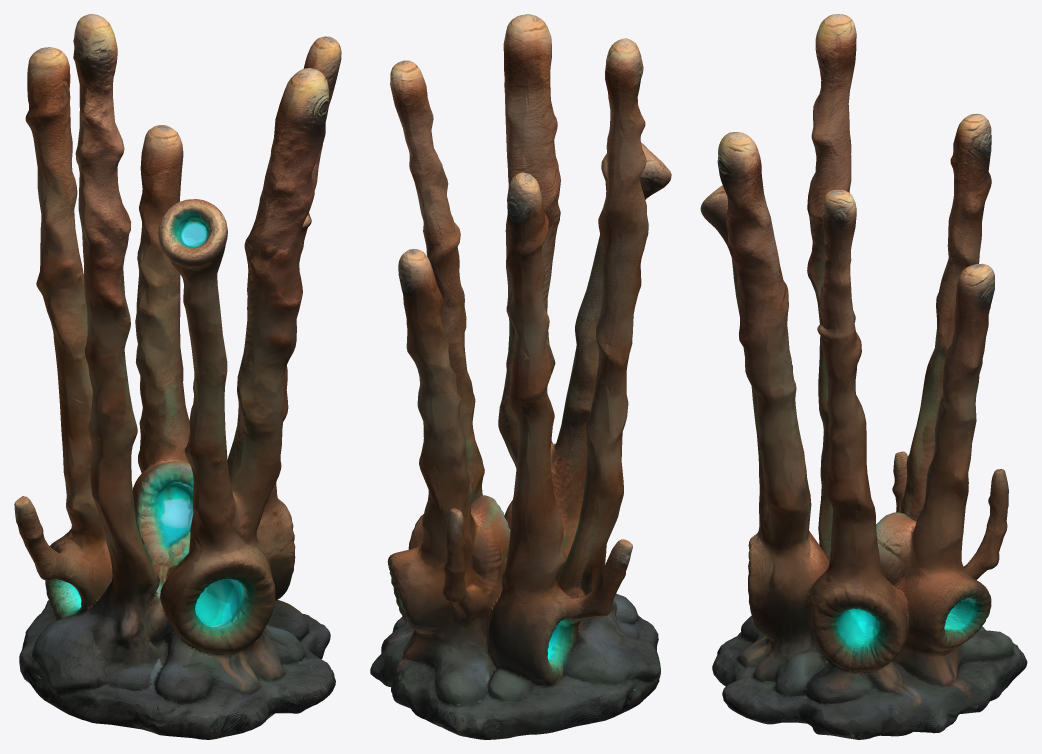
The model's file is bloom_sponge_cluster.glb.
3 renders of one model, left to right at view 1: azimuth 30°, elevation 25°; view 2: azimuth 150°, elevation 25°; view 3: azimuth 270°, elevation 25°, orthographic. The views are drawn at different scales.
Size of the model in its own units: 0.8356 by 1.9 by 0.9017.
1 material, 1 textured.
